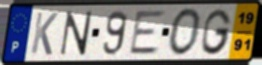9: (101, 9, 128, 57)
E: (127, 9, 167, 57)
G: (200, 8, 234, 57)
K: (29, 10, 60, 57)
N: (58, 10, 95, 57)
O: (167, 7, 204, 58)
